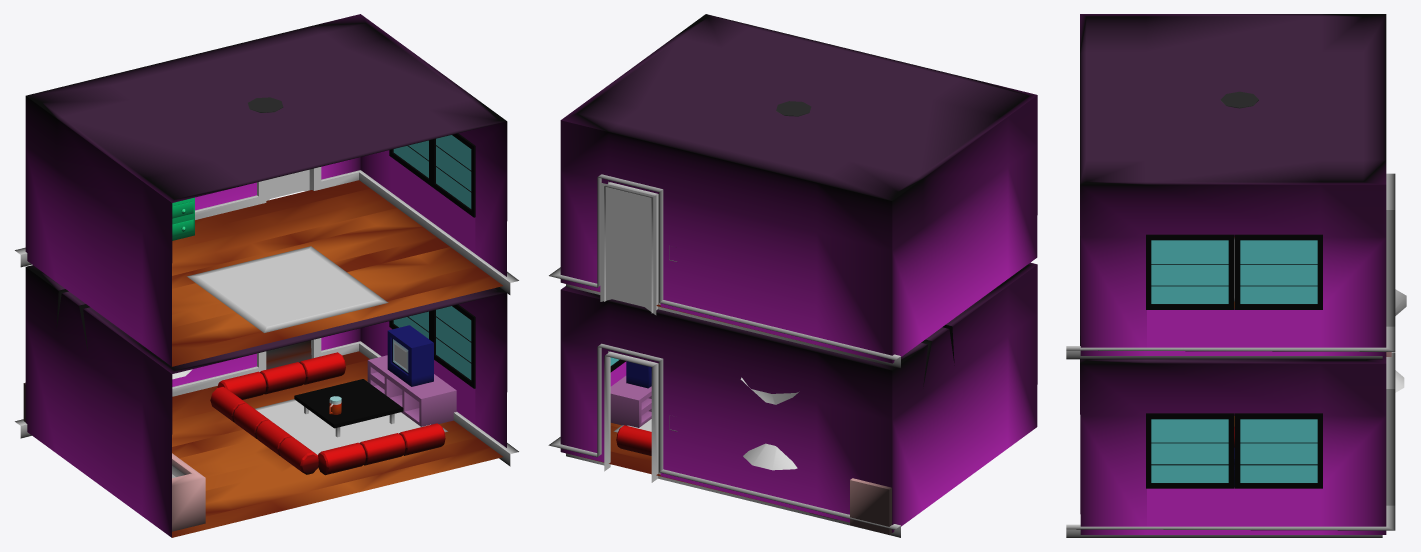
The model's file is KameHouse.FBX.
3 renders of one model, left to right at view 1: azimuth 30°, elevation 25°; view 2: azimuth 150°, elevation 25°; view 3: azimuth 270°, elevation 25°, orthographic. The views are drawn at different scales.
Visible parts, largest first — view 1: Plane009, Plane001, Object006, Object002, Plane010, Box019, Plane002, Box020, Box013, Box001, Cylinder005, Box003 (+8 smaller); view 2: Plane009, Plane001, Plane011, Box009, Box020, Box004, Box001, Cylinder011, Object002, Cylinder004, Box002; view 3: Plane009, Plane001, Box013, Box019, Box020, Box009, Cylinder017.
Boxes of the visible parts, x1=… form: Plane009: x1=25, y1=14, x2=507, y2=366; Plane001: x1=25, y1=265, x2=507, y2=537; Object006: x1=172, y1=180, x2=502, y2=366; Object002: x1=172, y1=351, x2=502, y2=537; Plane010: x1=187, y1=246, x2=388, y2=332; Box019: x1=389, y1=133, x2=475, y2=217; Plane002: x1=255, y1=381, x2=447, y2=454; Box020: x1=15, y1=167, x2=518, y2=294; Box013: x1=389, y1=304, x2=475, y2=388; Box001: x1=367, y1=355, x2=456, y2=426; Cylinder005: x1=318, y1=423, x2=445, y2=475; Box003: x1=294, y1=379, x2=403, y2=437; Plane009: x1=560, y1=14, x2=1037, y2=363; Plane001: x1=560, y1=262, x2=1037, y2=532; Plane011: x1=600, y1=182, x2=656, y2=315; Box009: x1=548, y1=343, x2=900, y2=537; Box020: x1=549, y1=174, x2=900, y2=368; Box004: x1=850, y1=478, x2=891, y2=534; Box001: x1=610, y1=376, x2=651, y2=427; Cylinder011: x1=740, y1=377, x2=799, y2=470; Object002: x1=580, y1=423, x2=805, y2=511; Cylinder004: x1=616, y1=425, x2=651, y2=455; Box002: x1=626, y1=361, x2=651, y2=388; Plane009: x1=1080, y1=14, x2=1386, y2=355; Plane001: x1=1080, y1=236, x2=1386, y2=534; Box013: x1=1146, y1=413, x2=1322, y2=488; Box019: x1=1146, y1=234, x2=1322, y2=309; Box020: x1=1066, y1=173, x2=1395, y2=359; Box009: x1=1066, y1=352, x2=1395, y2=537; Cylinder017: x1=1220, y1=91, x2=1258, y2=108.
Bounding box in the file's own units: 682 × 634 × 549.
